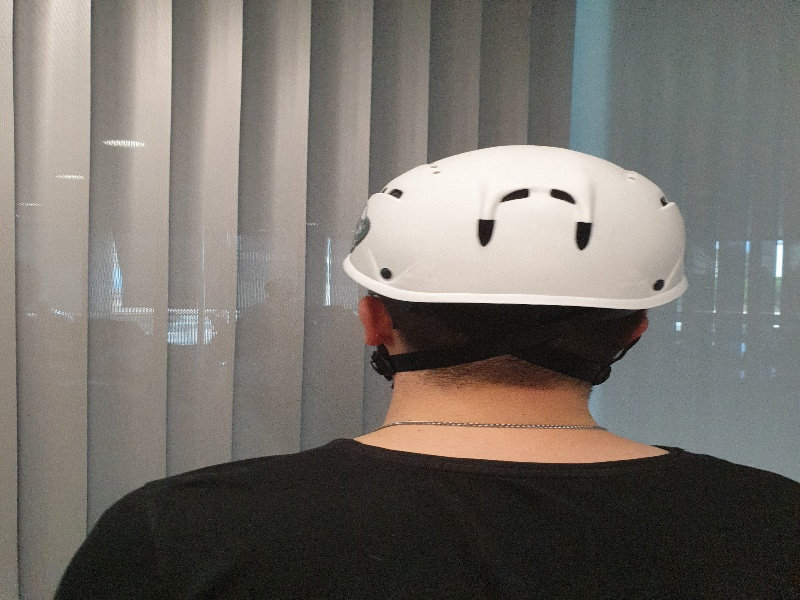Baret: (344, 143, 690, 311)
